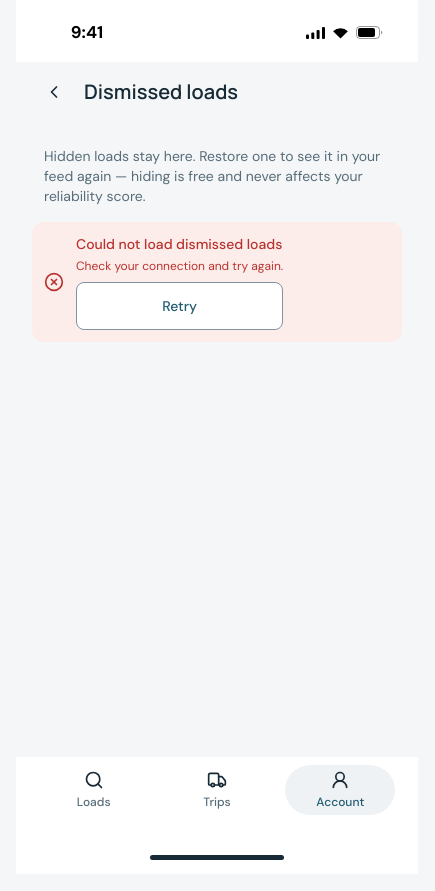
DismissedLoads › offers retry after fetch failure without showing a false empty state
The width and height of the screenshot is (435, 891).
Expected: the text "Could not load dismissed loads" is shown, [76,234,283,254]
Click the button "Retry" at (180, 306), box [76,282,283,330]
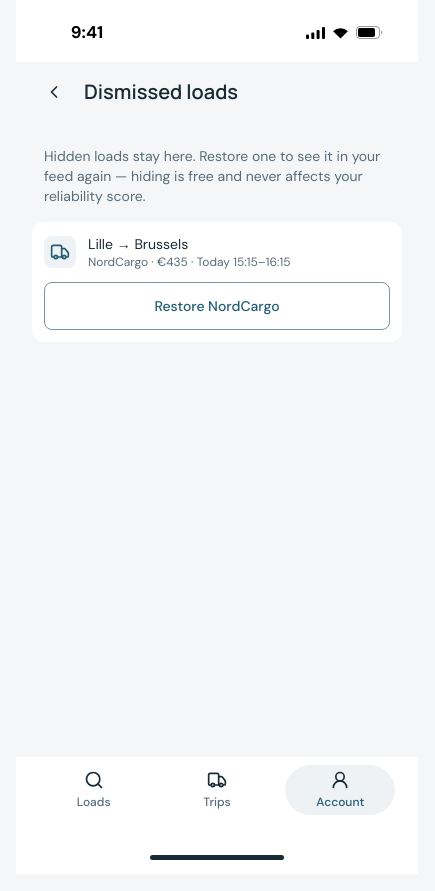
Expected: the text "Lille → Brussels" is shown, [88,235,188,253]
